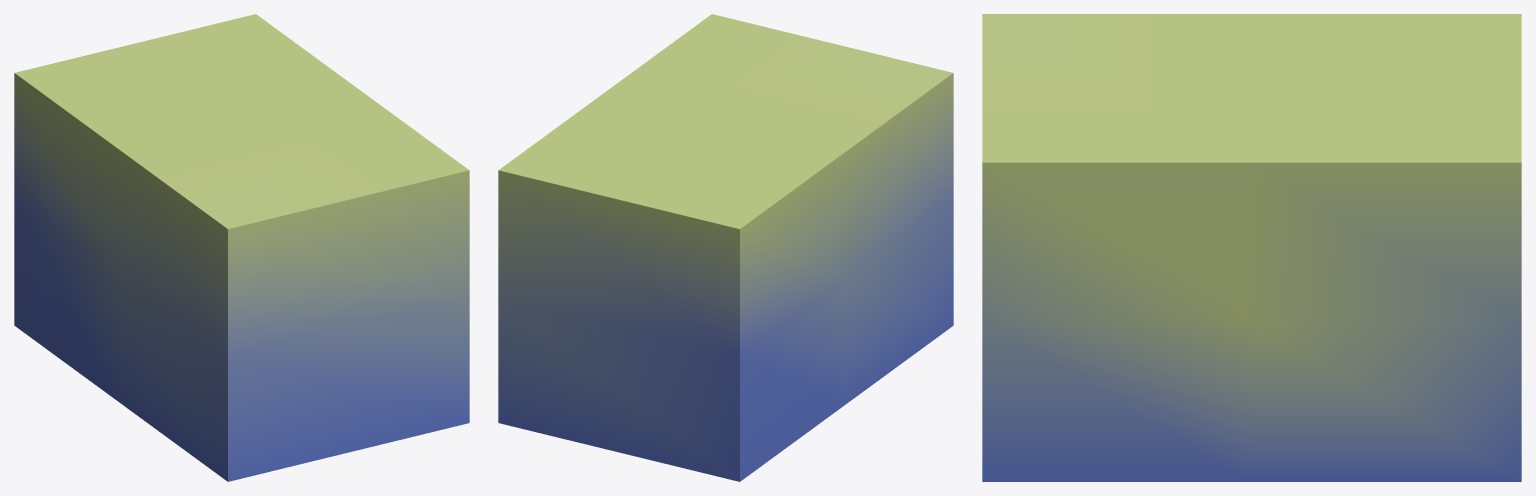
Rendered from Environments_testing.glb.
3 renders of one model, left to right at view 1: azimuth 30°, elevation 25°; view 2: azimuth 150°, elevation 25°; view 3: azimuth 270°, elevation 25°, orthographic. The views are drawn at different scales.
Visible parts, largest first — view 1: Cube; view 2: Cube; view 3: Cube.
Boxes of the visible parts, left/top/right/bottom form: Cube: left=14, top=14, right=469, bottom=481; Cube: left=498, top=14, right=953, bottom=481; Cube: left=982, top=14, right=1521, bottom=481.
Size of the model in its own units: 4.41 by 4.41 by 6.75.
